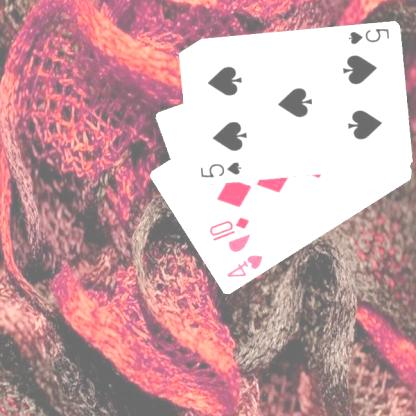10D: (206, 214, 251, 244)
4H: (224, 252, 264, 280)
5S: (196, 159, 242, 180), (345, 26, 390, 46)
